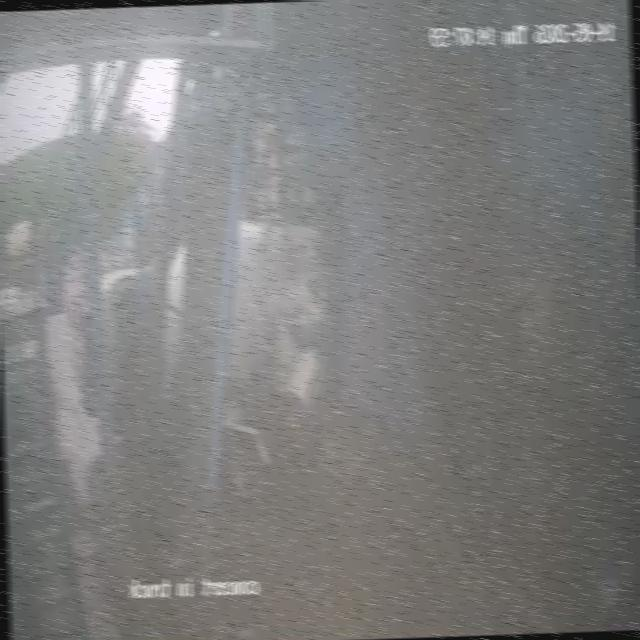cement_mixer_truck: (66, 194, 347, 511)
